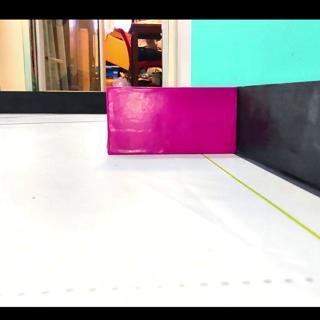xparking: (108, 87, 236, 153)
